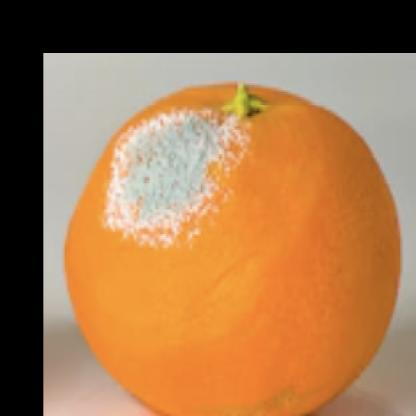rotten: (64, 78, 401, 416)
